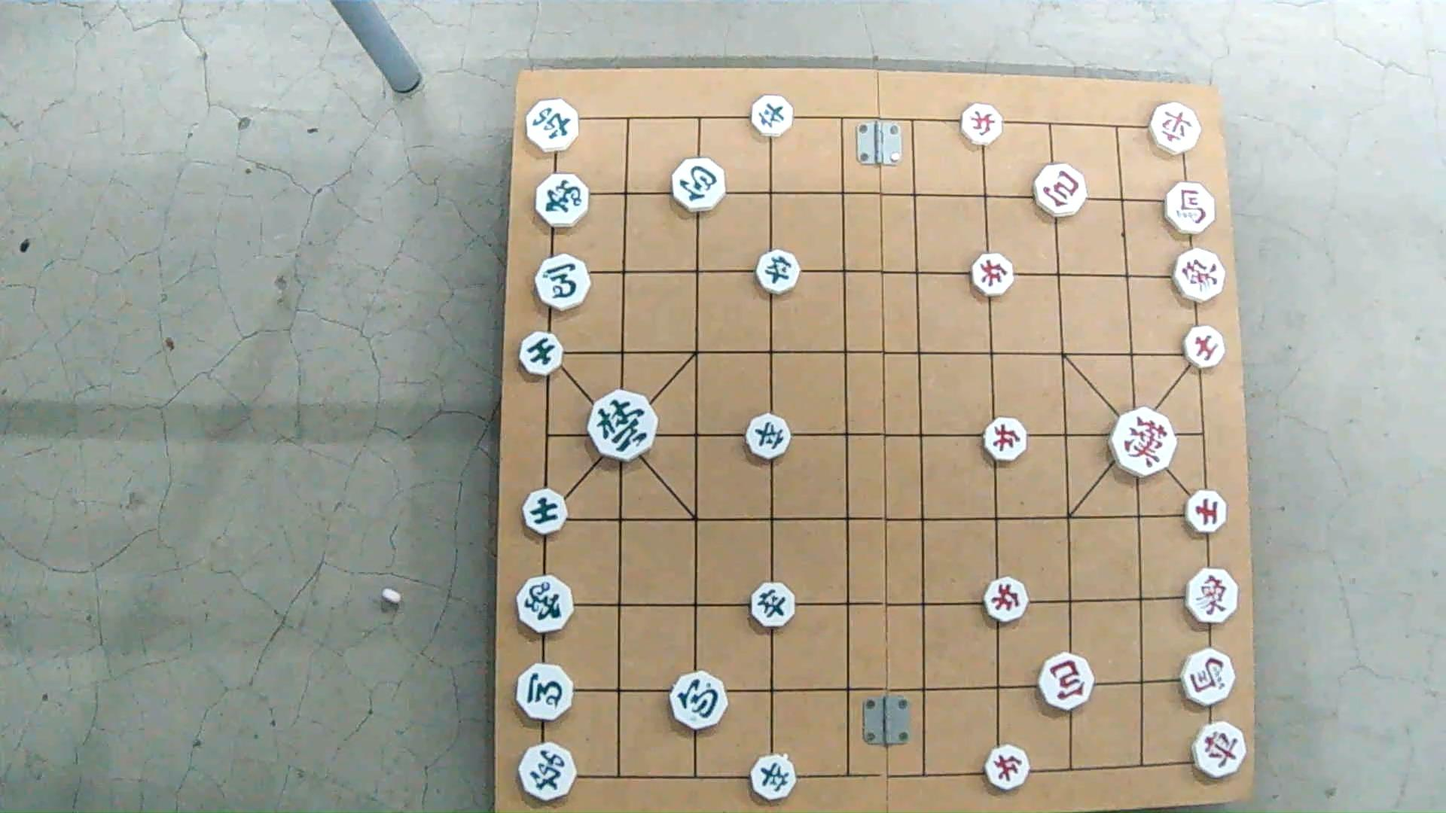cha_green: (518, 741, 576, 802), (527, 96, 577, 148)
cha_red: (1194, 723, 1246, 778), (1151, 101, 1201, 150)
jol_green: (752, 757, 798, 800), (748, 413, 792, 456), (758, 252, 803, 294), (752, 583, 797, 625), (752, 96, 797, 136)
jol_red: (987, 747, 1032, 790), (985, 577, 1030, 620), (983, 418, 1029, 459), (968, 253, 1012, 294), (958, 105, 1003, 145)
ma_green: (519, 664, 573, 720), (535, 256, 590, 308)
ma_red: (1179, 648, 1236, 707), (1164, 183, 1216, 232)
po_green: (672, 673, 728, 729), (673, 160, 726, 211)
po_red: (1036, 656, 1094, 710), (1033, 165, 1086, 213)
sa_green: (525, 489, 569, 533), (520, 333, 564, 374)
sa_red: (1186, 489, 1229, 537), (1182, 324, 1227, 367)
sang_green: (519, 574, 573, 635), (535, 174, 590, 229)
sang_red: (1185, 569, 1240, 623), (1174, 248, 1225, 305)
wang_green: (587, 394, 656, 458)
wang_red: (1113, 408, 1176, 473)
